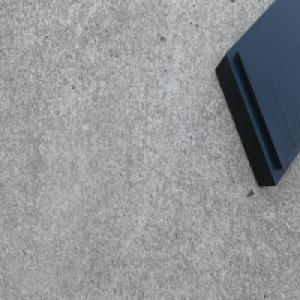PlasticPart: (213, 0, 300, 191)
